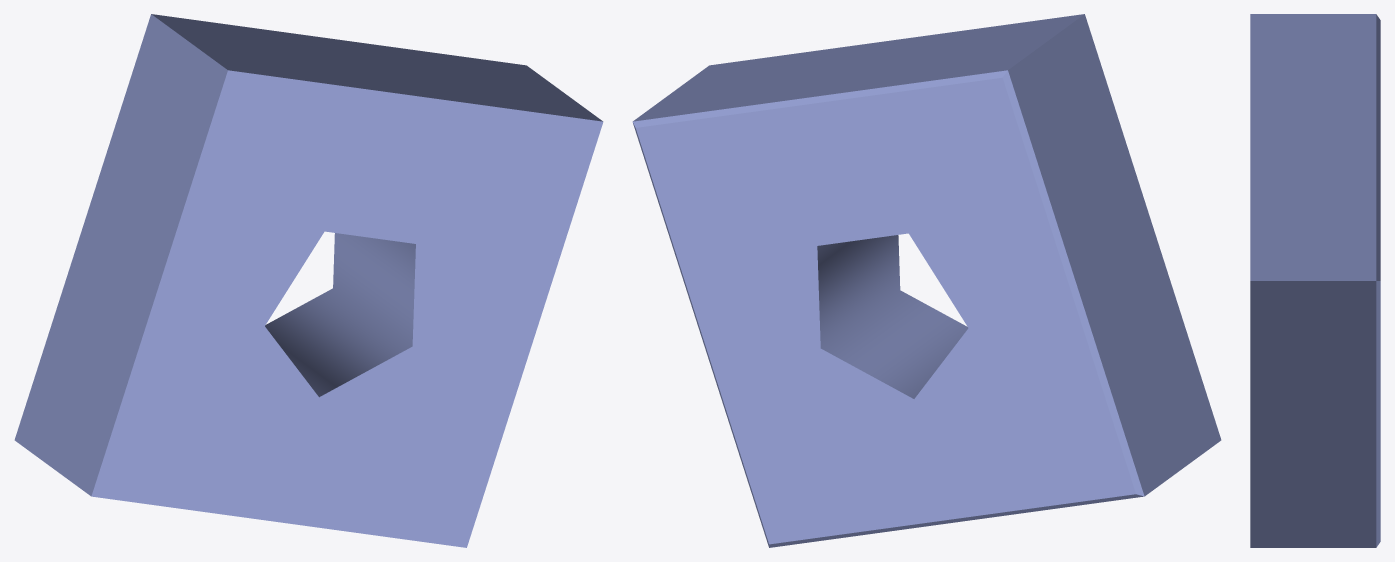
Rendered from Copie de Ecrou carr_X2_00e9_X0_ pour porte roue d_echappement^Copie de ASS pilier 4_Horloge Comtoise Verge - Sonnerie.obj.
3 renders of one model, left to right at view 1: azimuth 30°, elevation 25°; view 2: azimuth 150°, elevation 25°; view 3: azimuth 270°, elevation 25°, orthographic. The views are drawn at different scales.
Visible parts, largest first — view 1: Face_1, Face_6, Face_3, Face_2; view 2: Face_7, Face_6, Face_3, Face_2, Face_11, Face_8, Face_10, Face_9; view 3: Face_3, Face_4, Face_8, Face_9.
Boxes of the visible parts, bbox=[...] form: Face_1: bbox=[91, 70, 603, 547]; Face_6: bbox=[14, 14, 227, 496]; Face_3: bbox=[151, 14, 602, 121]; Face_2: bbox=[265, 233, 415, 397]; Face_7: bbox=[636, 77, 1135, 544]; Face_6: bbox=[1008, 14, 1221, 496]; Face_3: bbox=[633, 14, 1084, 121]; Face_2: bbox=[817, 235, 968, 398]; Face_11: bbox=[1002, 70, 1144, 496]; Face_8: bbox=[633, 70, 1007, 127]; Face_10: bbox=[769, 494, 1143, 547]; Face_9: bbox=[633, 123, 769, 546]; Face_3: bbox=[1250, 14, 1376, 280]; Face_4: bbox=[1250, 281, 1376, 547]; Face_8: bbox=[1376, 14, 1380, 280]; Face_9: bbox=[1376, 281, 1380, 547].
Size of the model in its own units: 0.0112 by 0.0112 by 0.003.
